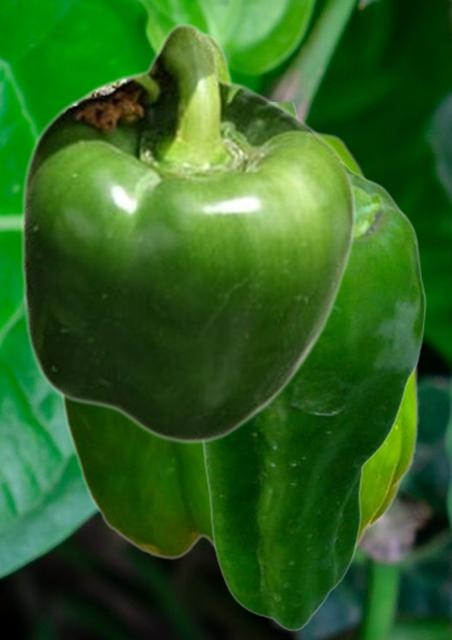bell_pepper: (58, 32, 418, 563), (19, 22, 356, 444), (199, 102, 426, 631)
